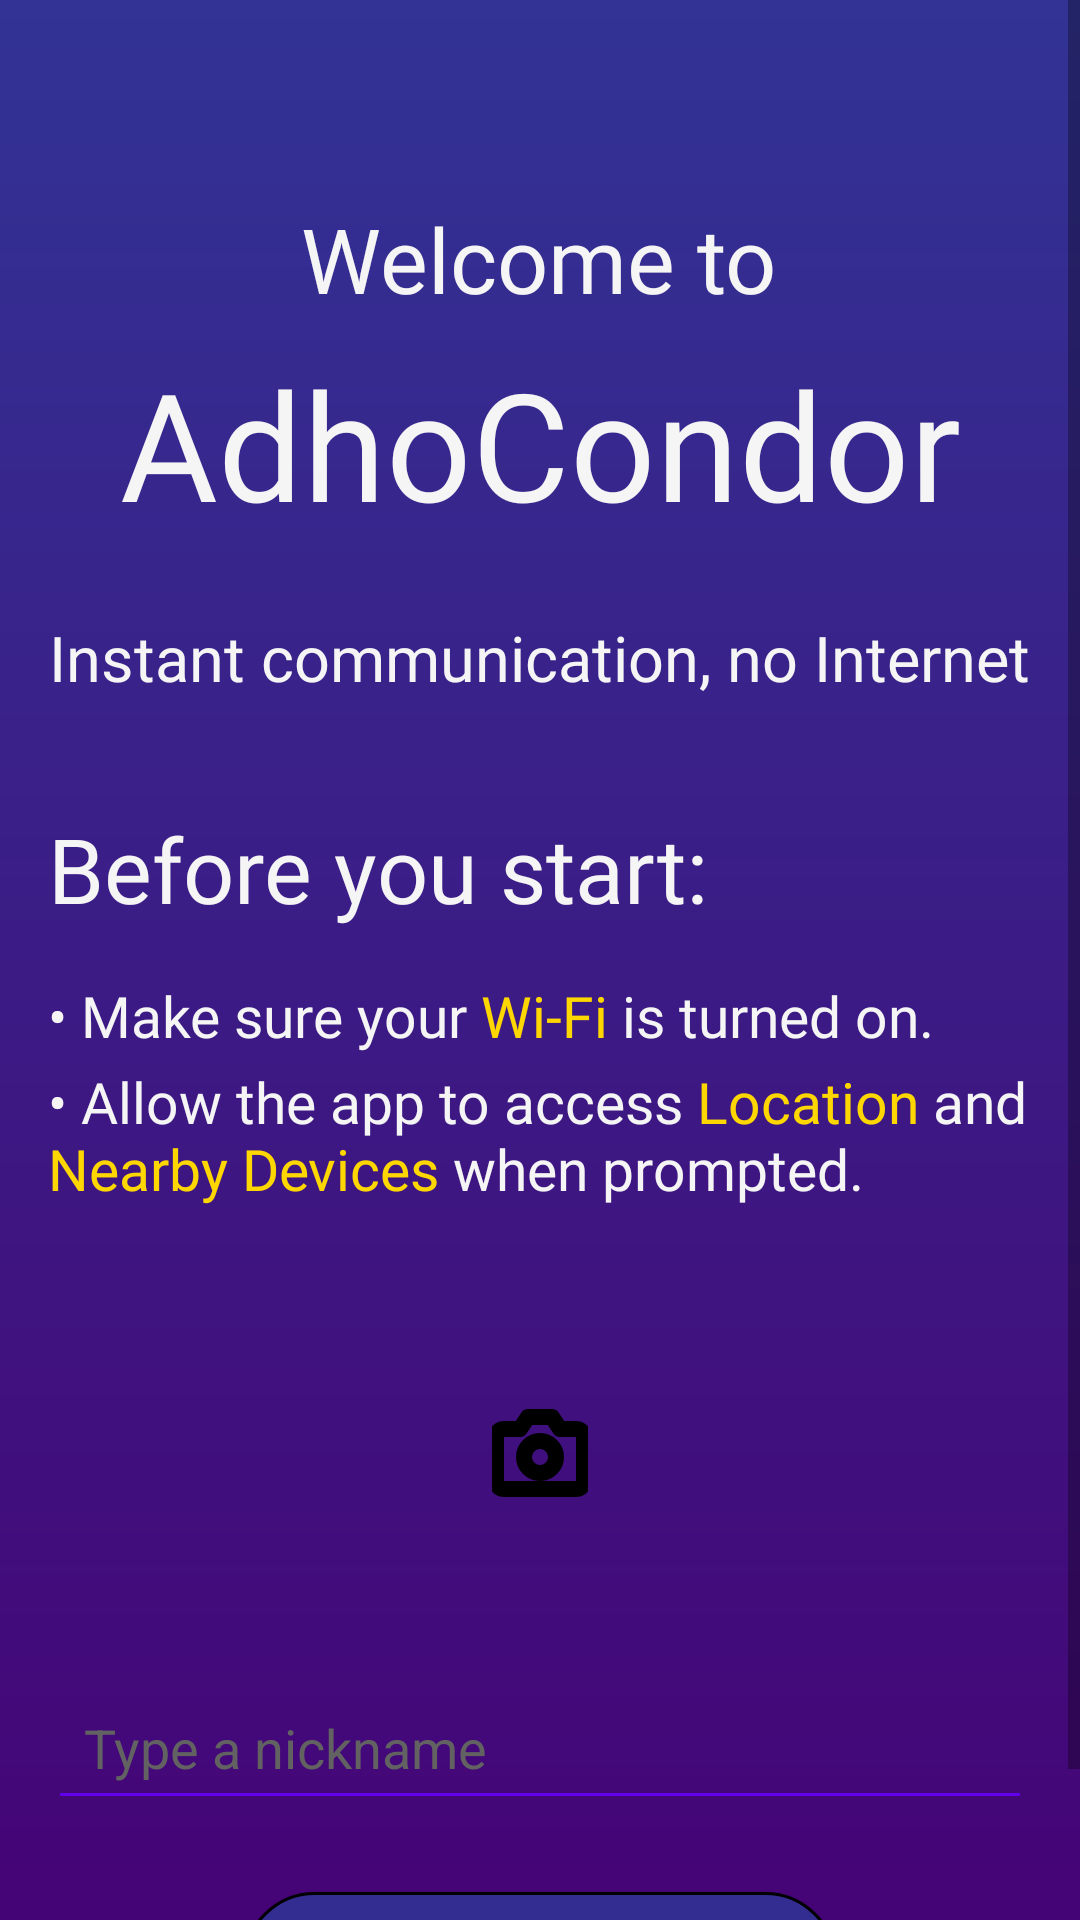

Where to tap for icons on this 1080x1920 app screen, as (x=x, y=y):
camera: (x=540, y=1453)
